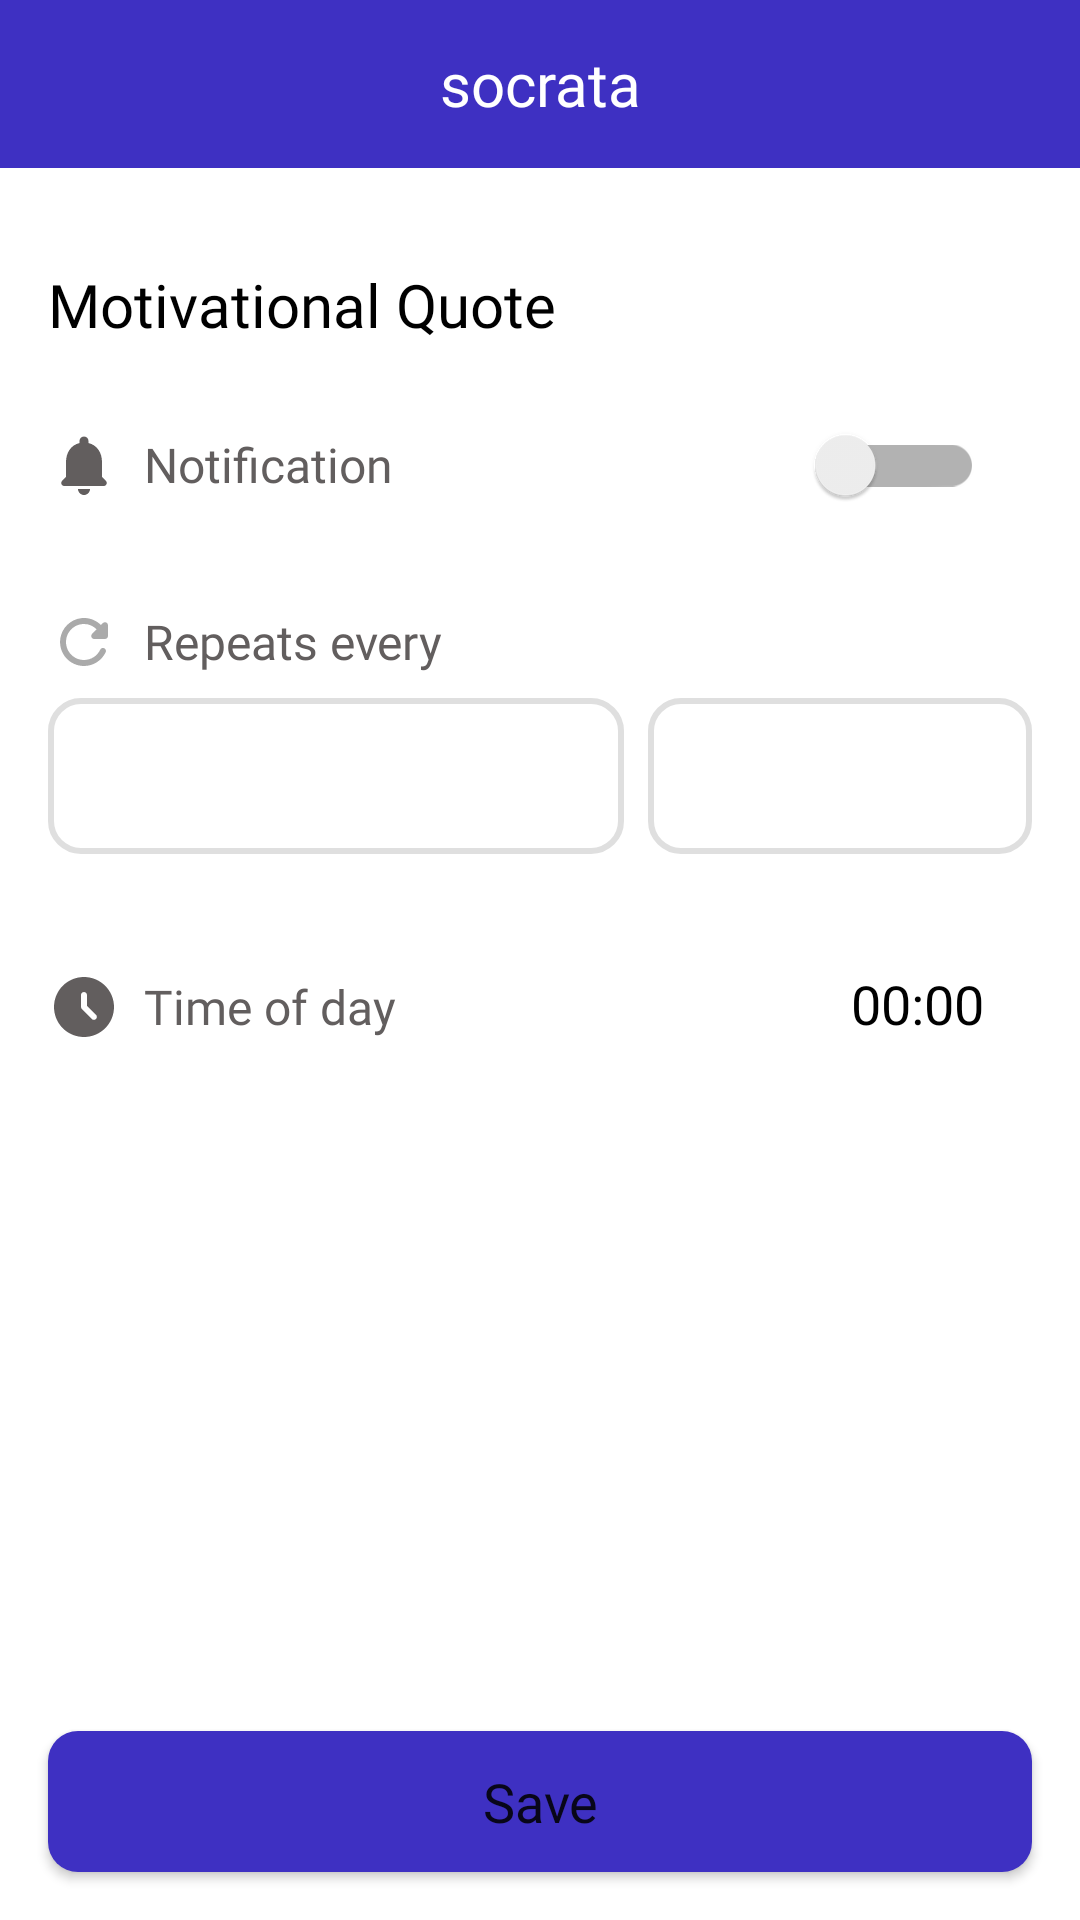

Named icons in this screenshot (1080*1920) and their bounding boxes, (x1, y1, x2, y2):
access time: (54, 977, 114, 1037)
refresh: (60, 618, 108, 666)
